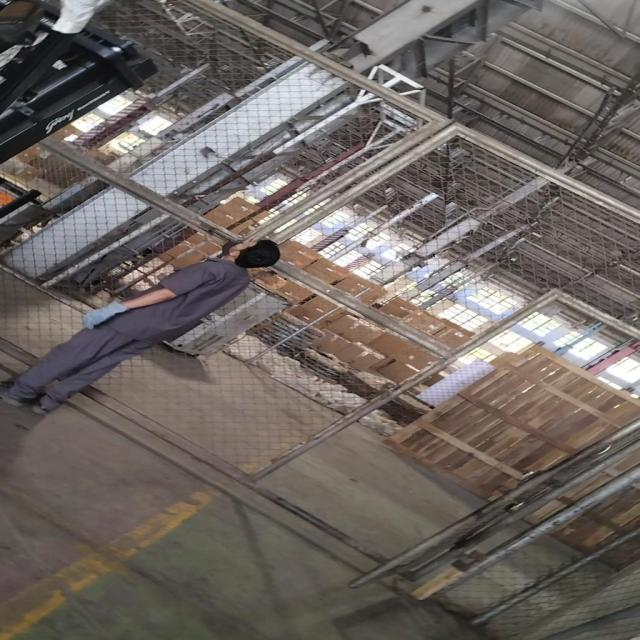Gloves-Detection: (74, 297, 128, 326)
